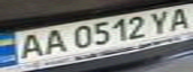0: (66, 22, 93, 50)
1: (109, 16, 133, 43)
2: (127, 12, 151, 39)
5: (90, 19, 115, 46)
A: (12, 30, 51, 61), (36, 26, 69, 56), (163, 6, 193, 31)
Y: (145, 8, 175, 35)
